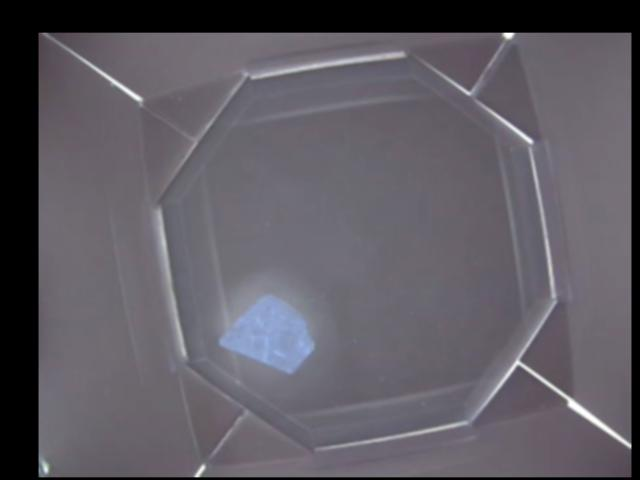China: (217, 295, 313, 371)
